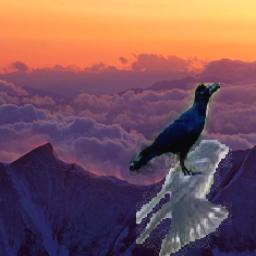Crow: (129, 84, 219, 177)
Swallow: (136, 141, 232, 256)
